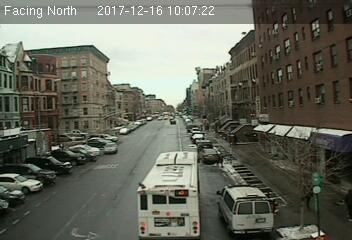bus: (137, 151, 205, 240)
car: (202, 148, 218, 161), (103, 143, 118, 154)
police: (216, 182, 273, 237)
